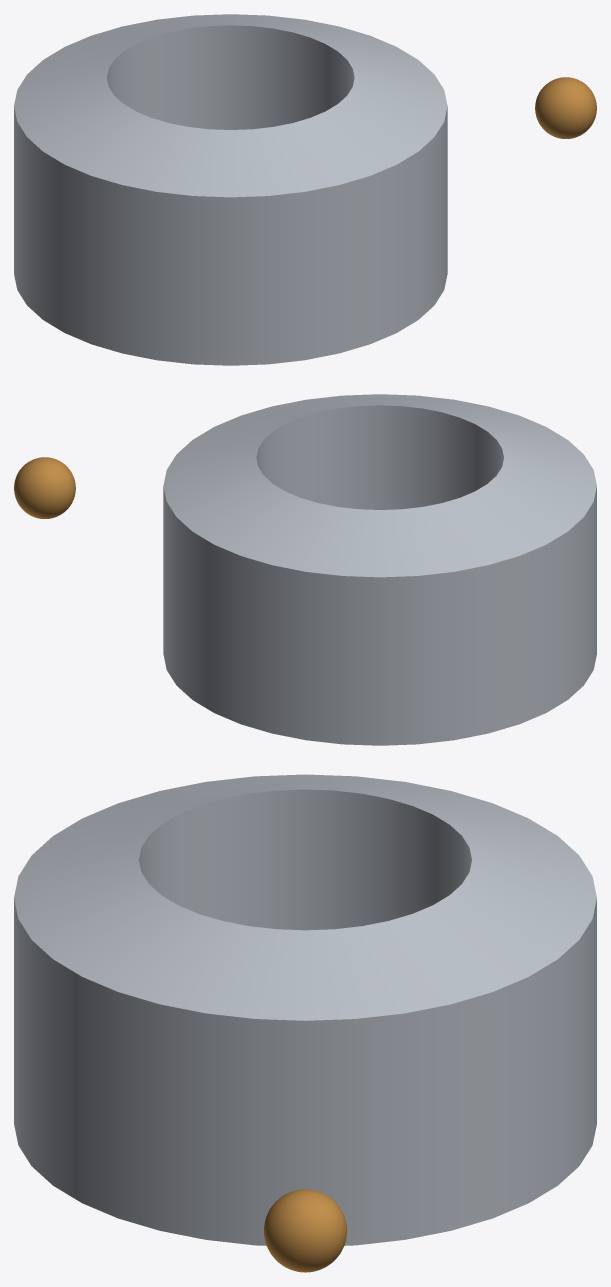
Rendered from small-after.glb.
3 renders of one model, top to bottom at view 1: azimuth 30°, elevation 25°; view 2: azimuth 150°, elevation 25°; view 3: azimuth 270°, elevation 25°, orthographic. The views are drawn at different scales.
Parts seen in each view (by area): view 1: bushing, preserved; view 2: bushing, preserved; view 3: bushing, preserved.
Part boxes in pixels (box(x1,y1,x2,y2)): bushing: box(14, 14, 447, 365); preserved: box(535, 77, 596, 138); bushing: box(163, 394, 596, 745); preserved: box(14, 457, 75, 518); bushing: box(14, 774, 596, 1245); preserved: box(264, 1189, 346, 1272).
Bounding box in the file's own units: 0.0205 × 0.007 × 0.014.
